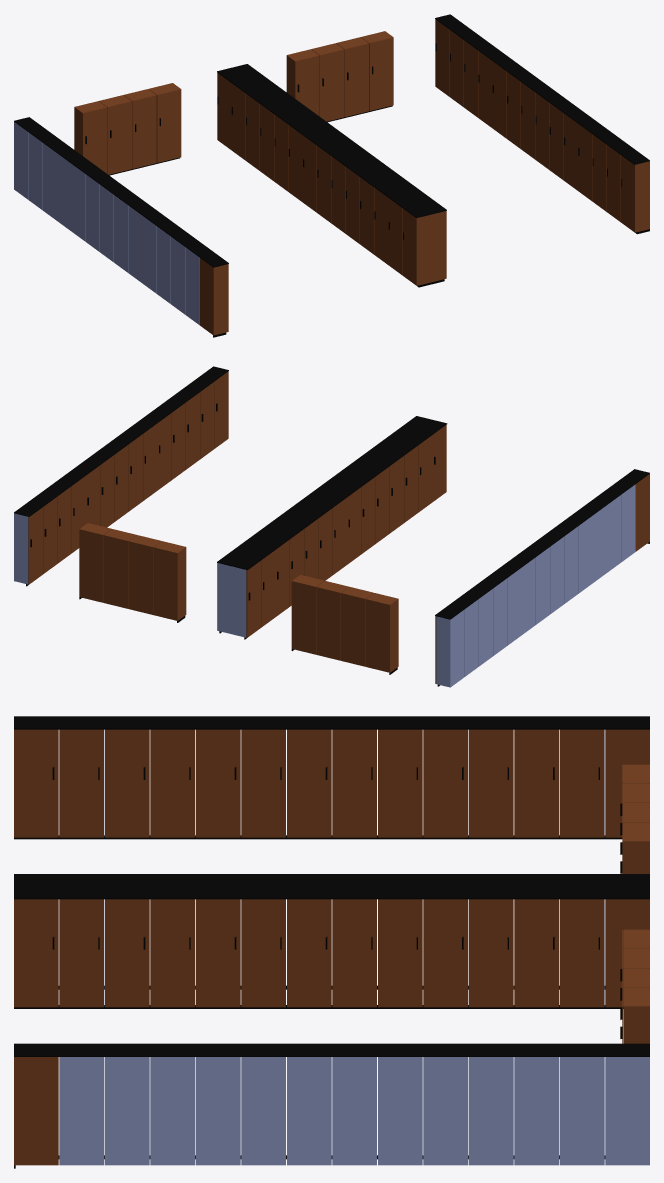
File: furniture_2.fbx
3 renders of one model, top to bottom at view 1: azimuth 30°, elevation 25°; view 2: azimuth 150°, elevation 25°; view 3: azimuth 270°, elevation 25°, orthographic. The views are drawn at different scales.
Visible parts, largest first — view 1: Countertop1.001, Countertop1.002, Countertop1, Cabinet1, Cabinet5_Door.003, Cabinet2_Door.004, Cabinet3_Door.003, Cabinet4_Door.004, Cabinet4_Door.003, Cabinet3_Door.004, Cabinet2_Door.003, Cabinet1_Door.003 (+46 smaller); view 2: Countertop1.001, Countertop1, Countertop1.002, Cabinet2.003, Cabinet1.003, Cabinet14, Cabinet5.003, Cabinet2.004, Cabinet3.003, Cabinet3.004, Cabinet4.003, Cabinet4.004 (+44 smaller); view 3: Countertop1.001, Countertop1, Countertop1.002, Cabinet2.002, Cabinet4.002, Cabinet11.002, Cabinet13.002, Cabinet25_Door, Cabinet27_Door, Cabinet11_Door, Cabinet13_Door, Cabinet2_Door (+37 smaller).
Part boxes in pixels (x1,y1,x2,y2): Countertop1.001: (217, 64, 446, 217); Countertop1.002: (435, 14, 649, 164); Countertop1: (14, 117, 228, 267); Cabinet1: (199, 258, 227, 335); Cabinet5_Door.003: (156, 89, 181, 162); Cabinet2_Door.004: (319, 49, 344, 121); Cabinet3_Door.003: (107, 101, 131, 174); Cabinet4_Door.004: (369, 37, 393, 110); Cabinet4_Door.003: (132, 95, 156, 168); Cabinet3_Door.004: (344, 43, 368, 116); Cabinet2_Door.003: (82, 107, 107, 173); Cabinet1_Door.003: (295, 55, 319, 116); Countertop1.001: (217, 416, 447, 570); Countertop1: (435, 469, 649, 619); Countertop1.002: (14, 366, 228, 516); Cabinet2.003: (365, 593, 398, 672); Cabinet1.003: (153, 541, 185, 620); Cabinet14: (436, 610, 464, 687); Cabinet5.003: (291, 575, 323, 654); Cabinet2.004: (128, 535, 160, 614); Cabinet3.003: (341, 587, 373, 666); Cabinet3.004: (104, 529, 136, 608); Cabinet4.003: (316, 581, 348, 660); Cabinet4.004: (79, 523, 111, 602); Countertop1.001: (14, 874, 649, 899); Countertop1: (14, 716, 649, 729); Countertop1.002: (14, 1043, 649, 1056); Cabinet2.002: (59, 1057, 104, 1165); Cabinet4.002: (150, 1057, 195, 1165); Cabinet11.002: (468, 1057, 513, 1165); Cabinet13.002: (559, 1057, 604, 1165); Cabinet25_Door: (468, 899, 513, 1007); Cabinet27_Door: (559, 899, 604, 1007); Cabinet11_Door: (468, 729, 513, 837); Cabinet13_Door: (559, 729, 604, 837); Cabinet2_Door: (59, 729, 103, 837).
Bounding box in the file's own units: 1077 × 167 × 853.
